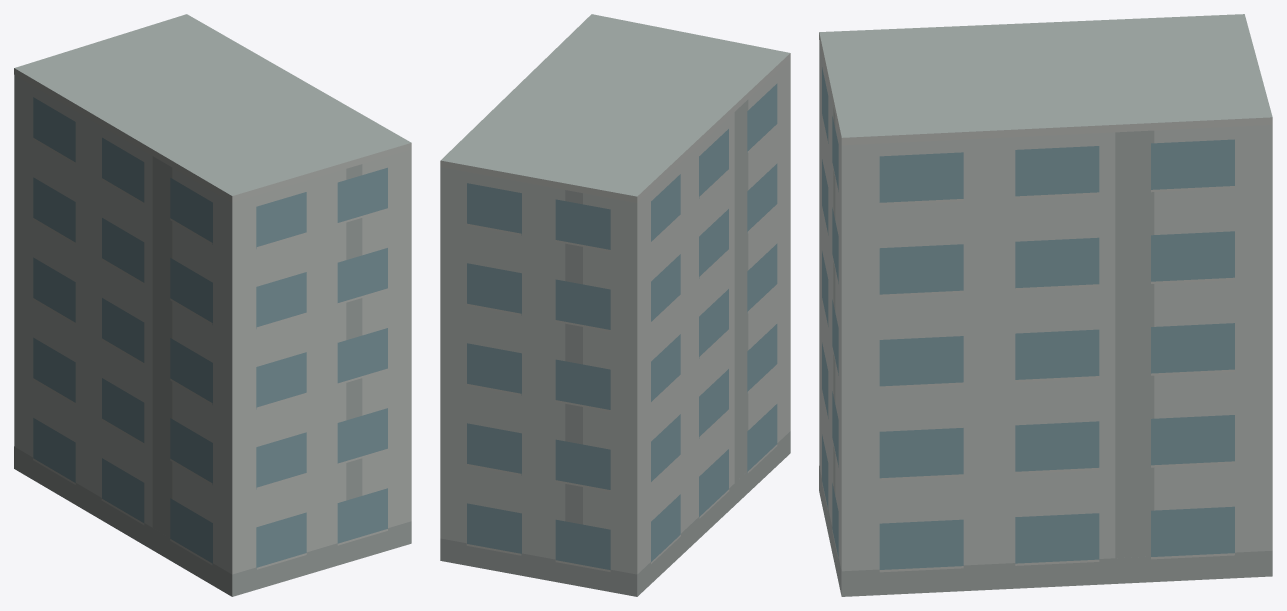
File: survey-upis-32843822.glb
3 renders of one model, left to right at view 1: azimuth 30°, elevation 25°; view 2: azimuth 150°, elevation 25°; view 3: azimuth 270°, elevation 25°, orthographic. The views are drawn at different scales.
Parts seen in each view (by area): view 1: survey-upis-32843822.tmp; view 2: survey-upis-32843822.tmp; view 3: survey-upis-32843822.tmp.
Boxes of the visible parts, x1,y1,x2,y2 form: survey-upis-32843822.tmp: [14, 14, 411, 596]; survey-upis-32843822.tmp: [440, 14, 790, 596]; survey-upis-32843822.tmp: [819, 14, 1272, 596].
Size of the model in its own units: 8.57 by 14.8 by 13.26.
